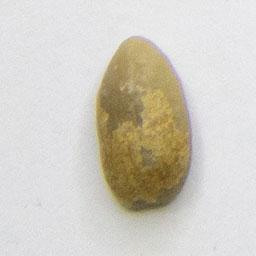longberry: (93, 31, 195, 213)
